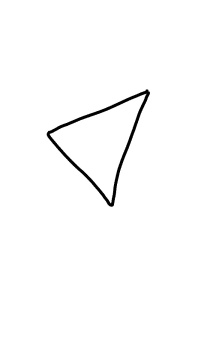Triangle: (45, 88, 159, 208)
